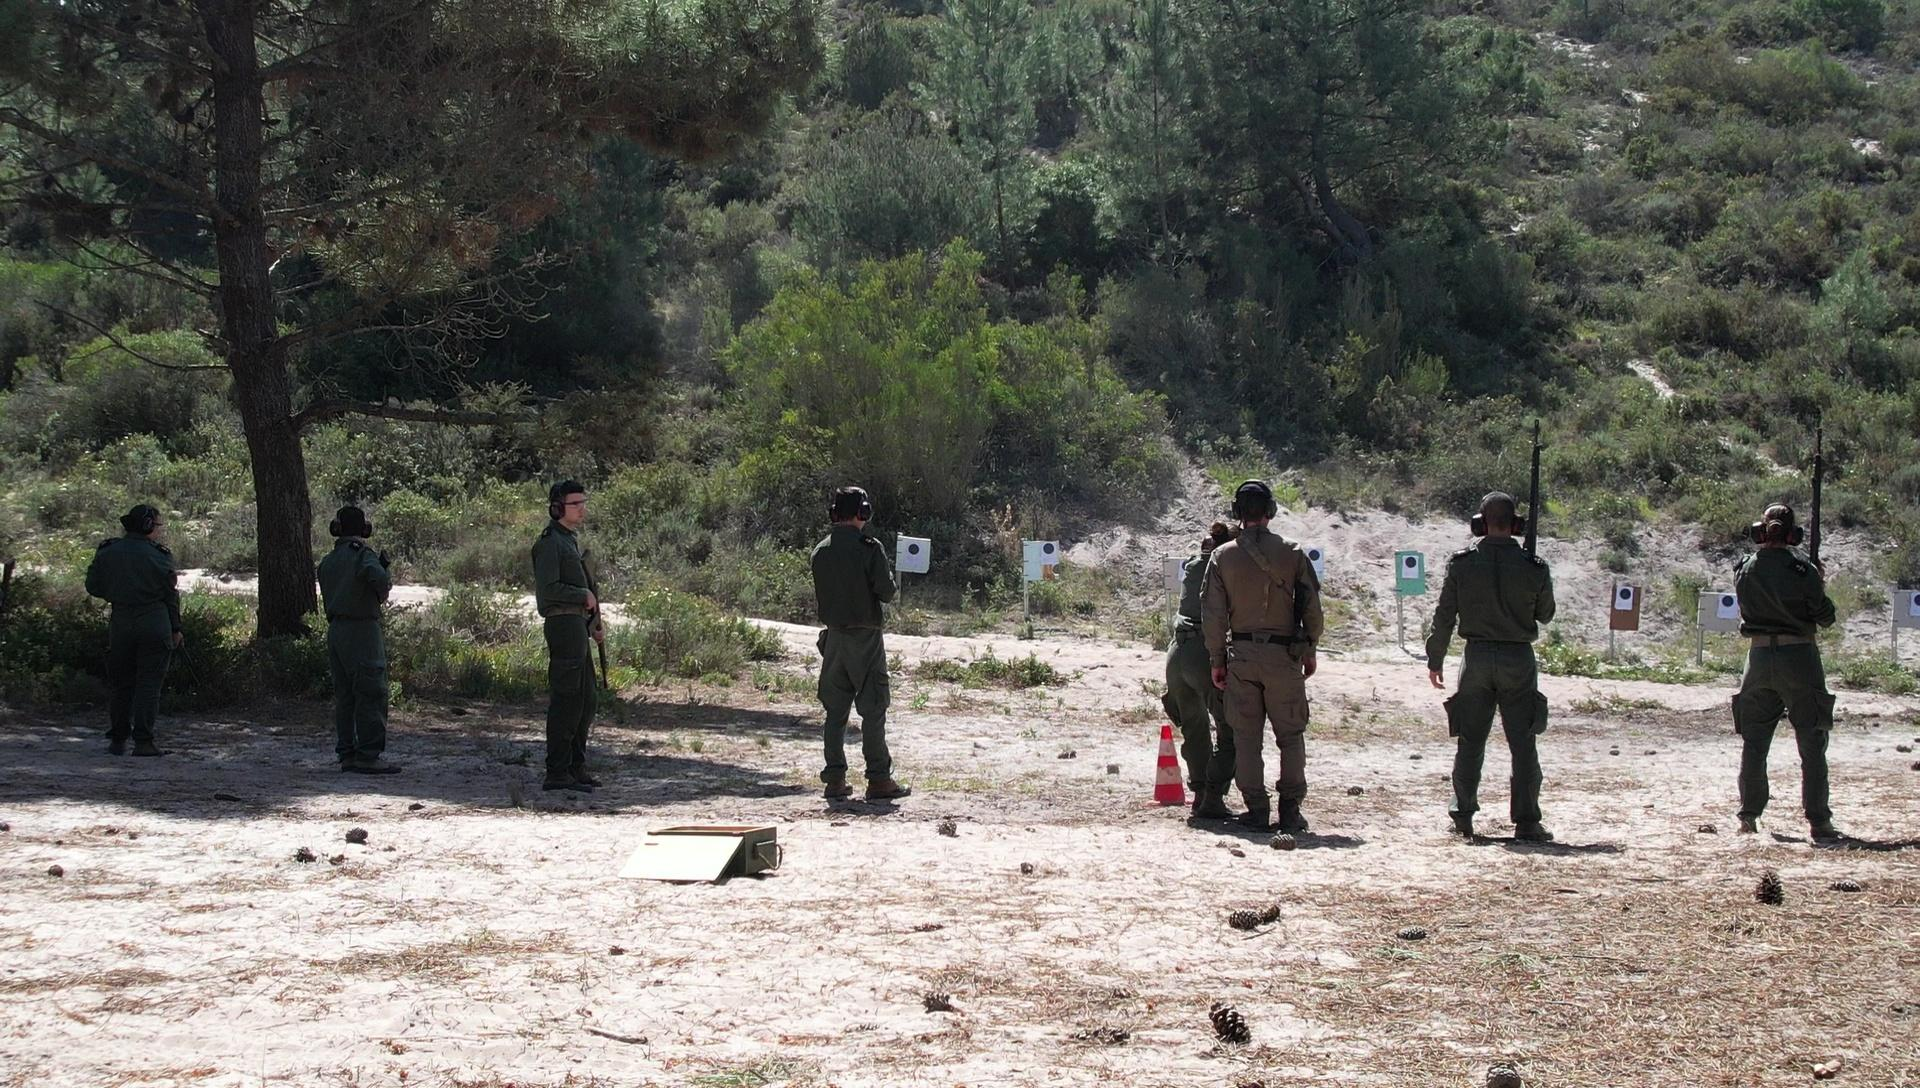Soldier: (1429, 430, 1569, 880), (1178, 468, 1327, 869), (1721, 437, 1855, 876), (804, 437, 920, 818), (516, 495, 621, 835), (78, 499, 200, 789), (1163, 508, 1261, 868), (301, 502, 405, 801)
